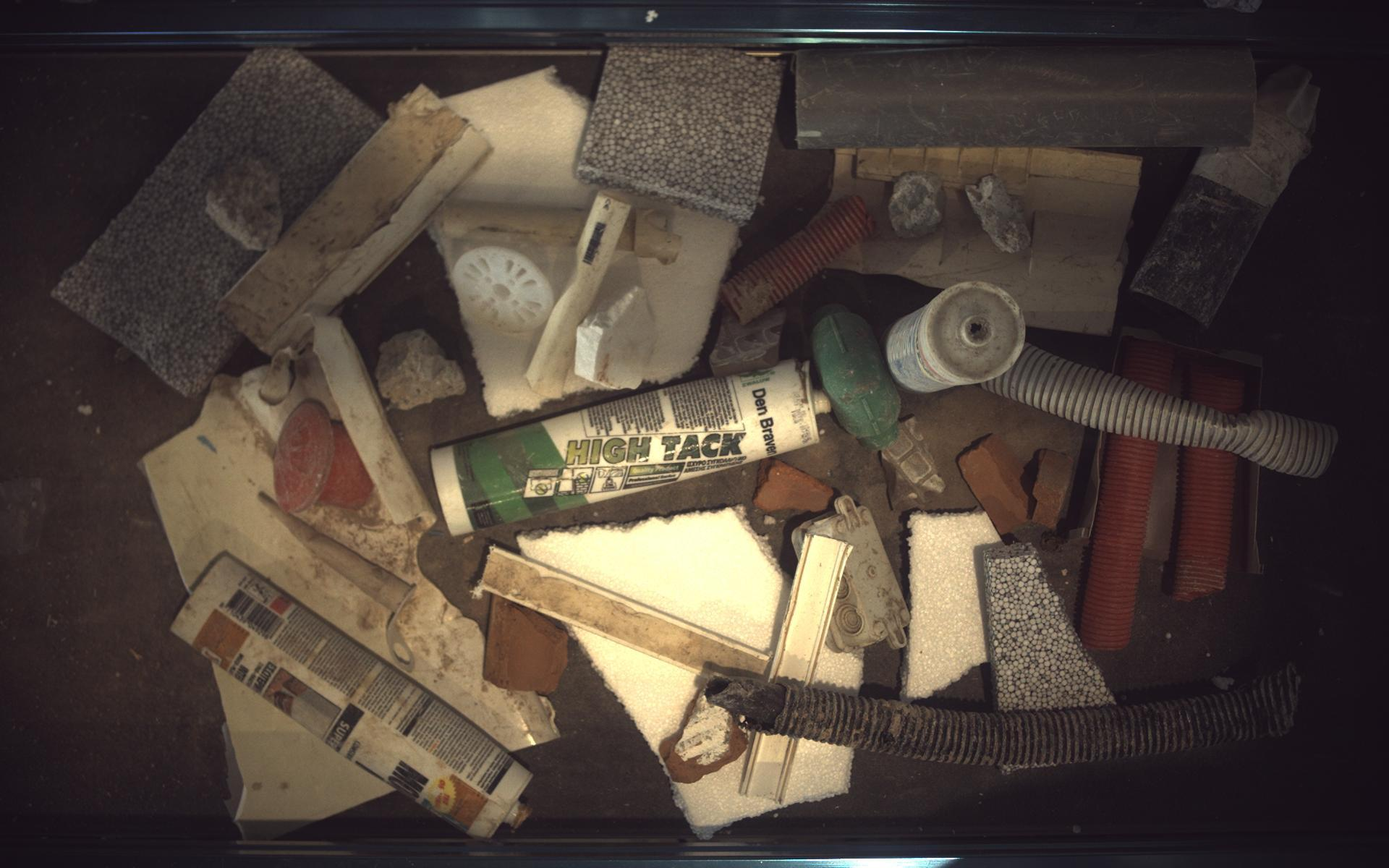brick: (660, 690, 749, 785), (485, 596, 568, 695), (960, 434, 1032, 536), (755, 459, 835, 513), (1034, 448, 1075, 530)
concrete: (375, 328, 466, 410), (205, 156, 281, 251), (967, 174, 1034, 252), (890, 170, 947, 238)
foam: (51, 48, 381, 396), (518, 508, 791, 652), (577, 46, 783, 225), (565, 192, 739, 393), (431, 200, 587, 417), (980, 544, 1118, 712), (443, 66, 596, 209), (903, 511, 1003, 701), (571, 627, 700, 755), (674, 765, 783, 838), (883, 417, 947, 512), (786, 743, 853, 806), (820, 649, 864, 691)
general_w: (1040, 428, 1108, 551), (1174, 345, 1266, 412), (1146, 443, 1182, 563), (1231, 457, 1265, 575), (1114, 327, 1166, 370)
pipes: (707, 665, 1304, 770), (1134, 64, 1323, 326), (797, 46, 1258, 148), (526, 191, 632, 399), (722, 197, 876, 323), (1082, 434, 1161, 651), (813, 305, 901, 450), (1174, 447, 1241, 602), (436, 203, 587, 246), (619, 208, 683, 265), (1124, 339, 1178, 392), (1192, 361, 1247, 413)
plastic: (140, 317, 558, 752), (172, 555, 530, 837), (218, 85, 491, 354), (433, 360, 828, 534), (833, 145, 1144, 334), (985, 344, 1341, 478), (480, 547, 771, 677), (480, 547, 771, 676), (212, 665, 391, 839), (257, 492, 415, 672), (793, 495, 912, 652), (888, 281, 1027, 392), (769, 536, 853, 685), (273, 399, 374, 514), (451, 246, 555, 333), (741, 733, 799, 804), (258, 346, 298, 405)
tile: (574, 284, 658, 388), (710, 307, 788, 376)
